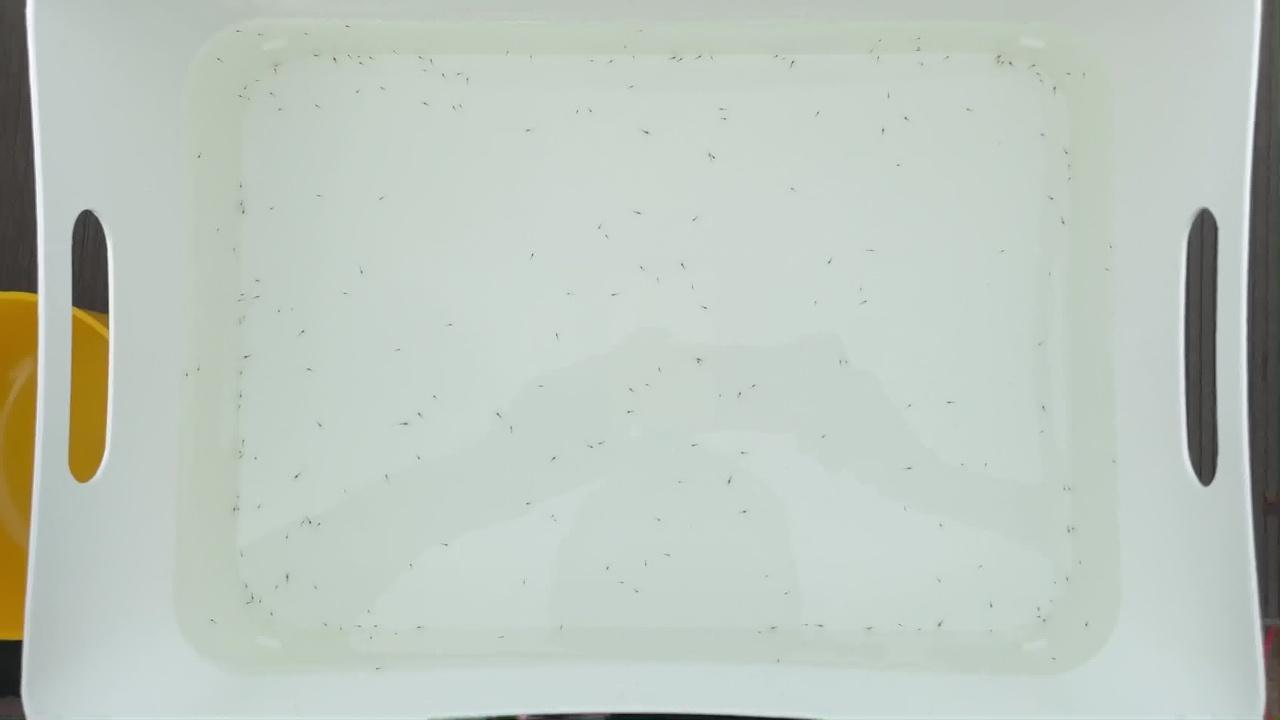shrimp: (1065, 157, 1078, 165), (1074, 69, 1087, 77), (1037, 79, 1050, 87), (876, 58, 889, 66), (876, 129, 889, 137), (785, 57, 798, 65), (700, 152, 713, 160), (602, 57, 615, 65), (584, 57, 597, 65), (413, 57, 426, 65), (369, 57, 382, 65), (329, 57, 342, 65), (264, 90, 277, 98), (239, 213, 252, 221), (377, 190, 390, 198), (250, 451, 263, 459), (264, 611, 277, 619), (310, 583, 323, 591), (316, 622, 329, 630), (374, 661, 387, 669), (399, 418, 412, 426), (660, 550, 673, 558), (597, 439, 610, 447), (526, 251, 539, 259), (689, 213, 702, 221), (692, 357, 705, 365), (626, 406, 639, 414), (737, 450, 750, 458), (740, 506, 753, 514), (782, 583, 795, 591), (904, 462, 917, 470), (706, 52, 718, 60), (241, 91, 253, 99), (191, 151, 203, 159), (213, 229, 225, 237), (241, 351, 253, 359), (236, 368, 248, 376), (363, 606, 375, 614), (546, 456, 558, 464), (624, 379, 636, 387), (1078, 622, 1090, 630), (1057, 217, 1070, 224), (1045, 195, 1058, 202), (1062, 176, 1075, 183), (1060, 147, 1073, 154), (1034, 137, 1047, 144), (1051, 86, 1064, 93), (1061, 74, 1074, 81), (1032, 74, 1045, 81), (1008, 61, 1021, 68), (999, 61, 1012, 68), (989, 63, 1002, 70), (997, 50, 1010, 57), (966, 107, 979, 114), (938, 51, 951, 58), (917, 59, 930, 66), (916, 36, 929, 43), (875, 39, 888, 46), (880, 96, 893, 103), (897, 112, 910, 119), (813, 112, 826, 119), (776, 57, 789, 64), (772, 52, 785, 59), (678, 56, 691, 63), (665, 51, 678, 58), (719, 117, 732, 124), (642, 129, 655, 136), (586, 106, 599, 113), (572, 106, 585, 113), (521, 125, 534, 132), (527, 56, 540, 63), (503, 47, 516, 54), (461, 79, 474, 86), (452, 72, 465, 79), (439, 73, 452, 80), (456, 104, 469, 111), (444, 106, 457, 113), (421, 70, 434, 77), (428, 56, 441, 63), (390, 51, 403, 58), (377, 83, 390, 90), (350, 86, 363, 93), (360, 62, 373, 69), (352, 51, 365, 58), (341, 50, 354, 57), (345, 23, 358, 30), (304, 38, 317, 45), (271, 104, 284, 111), (273, 64, 286, 71), (256, 33, 269, 40), (233, 28, 246, 35), (215, 55, 228, 62), (254, 78, 267, 85), (236, 87, 249, 94), (237, 180, 250, 187), (232, 197, 245, 204), (317, 193, 330, 200), (250, 293, 263, 300), (239, 287, 252, 294), (239, 319, 252, 326), (296, 332, 309, 339), (182, 370, 195, 377), (307, 365, 320, 372), (234, 390, 247, 397), (315, 421, 328, 428), (234, 446, 247, 453), (236, 435, 249, 442), (293, 473, 306, 480), (311, 520, 324, 527), (303, 521, 316, 528), (253, 502, 266, 509), (232, 505, 245, 512), (233, 488, 246, 495), (281, 533, 294, 540), (282, 572, 295, 579), (271, 581, 284, 588), (253, 593, 266, 600), (242, 594, 255, 601), (240, 575, 253, 582), (237, 545, 250, 552), (338, 624, 351, 631), (354, 621, 367, 628), (364, 632, 377, 639), (373, 623, 386, 630), (412, 623, 425, 630), (404, 560, 417, 567), (442, 544, 455, 551), (379, 473, 392, 480), (417, 452, 430, 459), (416, 408, 429, 415), (424, 391, 437, 398), (498, 408, 511, 415), (533, 380, 546, 387), (520, 500, 533, 507), (546, 513, 559, 520), (521, 577, 534, 584), (555, 622, 568, 629), (601, 559, 614, 566), (617, 580, 630, 587), (628, 587, 641, 594), (638, 554, 651, 561), (654, 517, 667, 524), (580, 443, 593, 450), (566, 290, 579, 297), (594, 222, 607, 229), (787, 184, 800, 191), (655, 275, 668, 282), (639, 265, 652, 272), (607, 293, 620, 300), (685, 278, 698, 285), (700, 306, 713, 313), (638, 384, 651, 391), (714, 390, 727, 397), (752, 377, 765, 384), (724, 483, 737, 490), (678, 477, 691, 484), (773, 651, 786, 658), (859, 623, 872, 630), (891, 618, 904, 625), (915, 624, 928, 631), (937, 577, 950, 584), (973, 565, 986, 572), (985, 602, 998, 609), (985, 628, 998, 635), (935, 524, 948, 531), (903, 401, 916, 408), (945, 400, 958, 407), (844, 358, 857, 365), (835, 362, 848, 369), (809, 297, 822, 304), (823, 259, 836, 266), (866, 244, 879, 251), (1065, 486, 1078, 493), (1067, 522, 1080, 529), (1057, 530, 1070, 537), (1076, 553, 1089, 560), (1065, 571, 1078, 578), (1030, 612, 1043, 619), (1032, 605, 1045, 612), (1046, 577, 1059, 584), (1047, 658, 1060, 665), (1046, 266, 1059, 273), (1028, 63, 1040, 70), (917, 48, 929, 55), (867, 48, 879, 55), (895, 162, 907, 169), (690, 55, 702, 62), (718, 105, 730, 112), (629, 89, 641, 96), (623, 44, 635, 51), (419, 100, 431, 107), (308, 53, 320, 60), (313, 98, 325, 105), (241, 84, 253, 91), (264, 206, 276, 213), (357, 268, 369, 275), (258, 276, 270, 283), (236, 297, 248, 304), (275, 309, 287, 316), (192, 364, 204, 371), (236, 401, 248, 408), (247, 590, 259, 597), (208, 618, 220, 625), (391, 626, 403, 633), (507, 424, 519, 431), (552, 331, 564, 338), (601, 234, 613, 241), (635, 210, 647, 217), (679, 262, 691, 269), (657, 366, 669, 373), (734, 389, 746, 396), (696, 445, 708, 452), (768, 624, 780, 631), (812, 623, 824, 630), (933, 617, 945, 624), (862, 292, 874, 299), (1039, 406, 1051, 413), (1056, 486, 1068, 493), (1039, 617, 1051, 624), (994, 246, 1006, 253)
